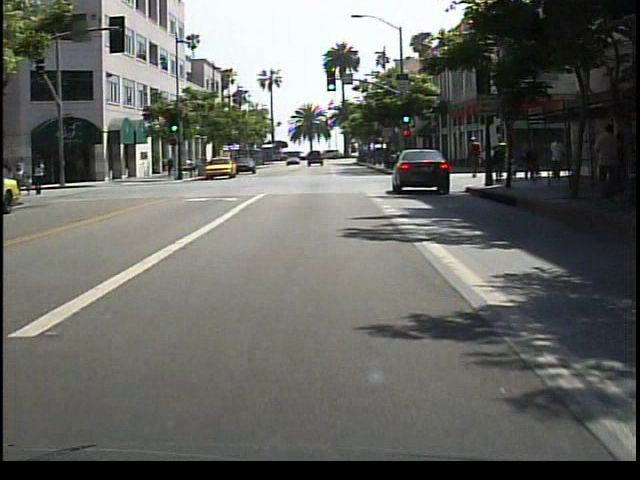person: (466, 136, 486, 185), (32, 159, 54, 200)
